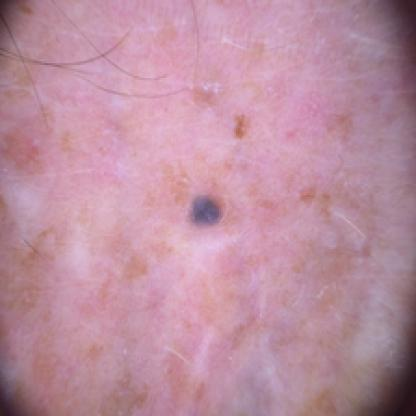benign: (174, 178, 236, 240)
